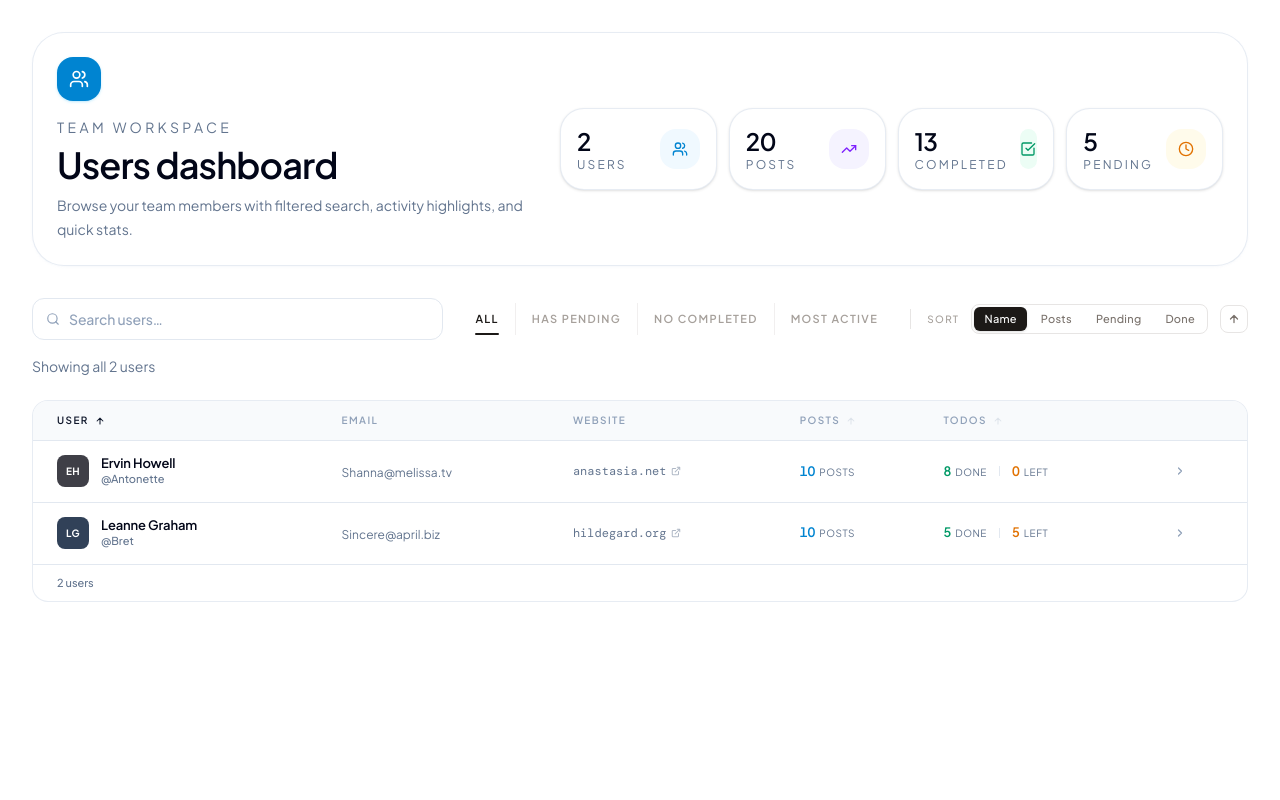
Test: UsersPage › filters users by search query
Type "Leanne" into the field with placeholder "Search users…" at (238, 319), box [32,298,443,340]
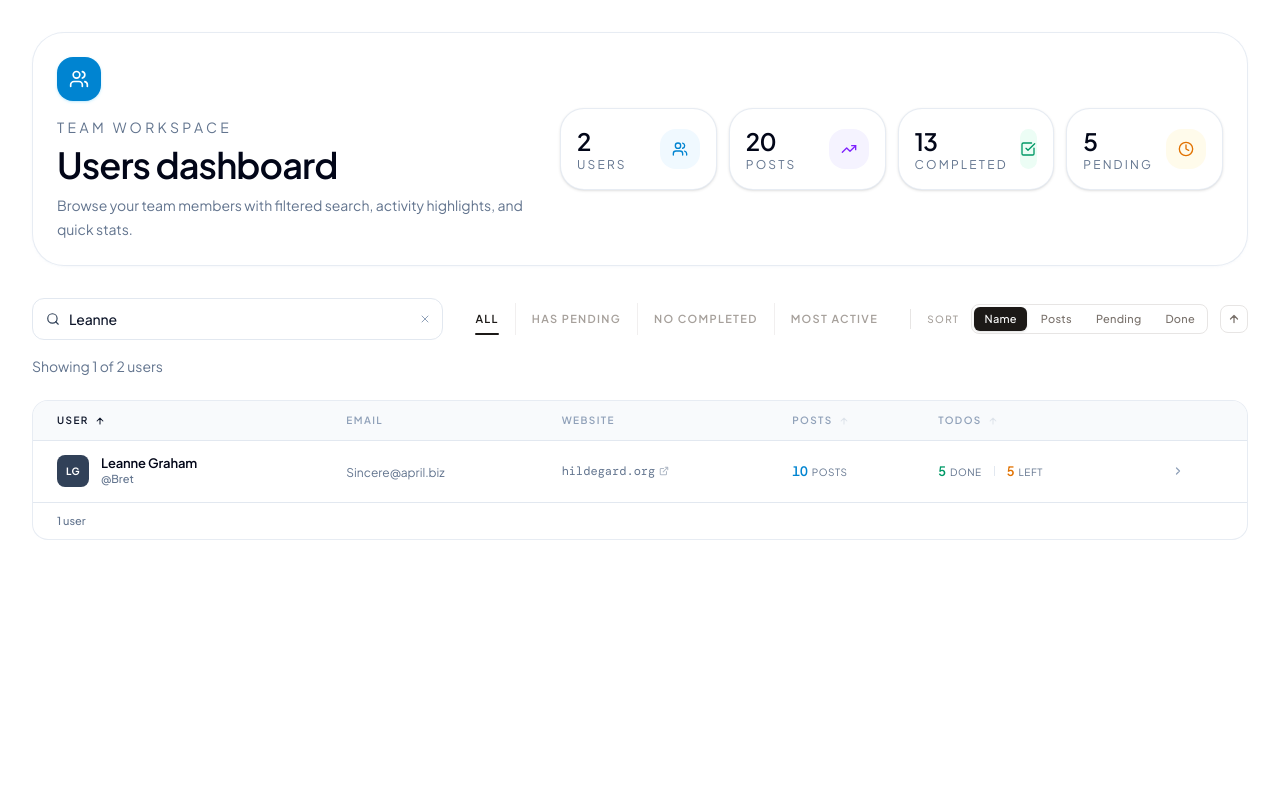
Expected: the text "Leanne Graham" is shown, [101,455,197,471]
Now the link "Ervin Howell" is gone
